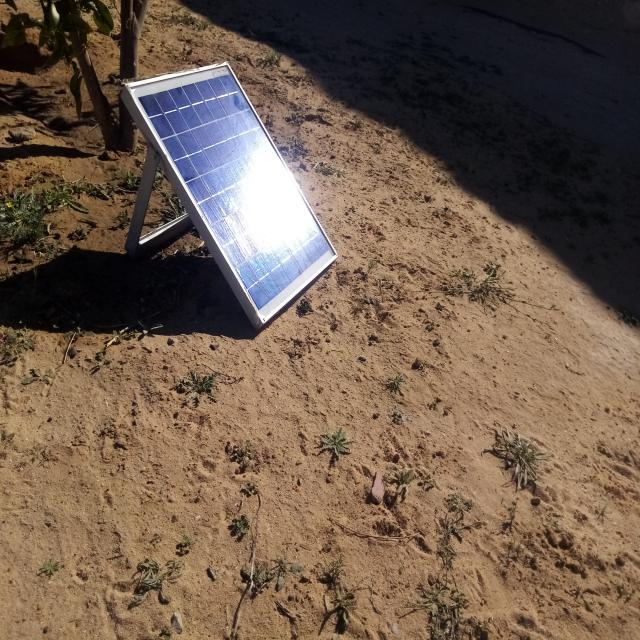no faulty: (125, 63, 337, 325)
